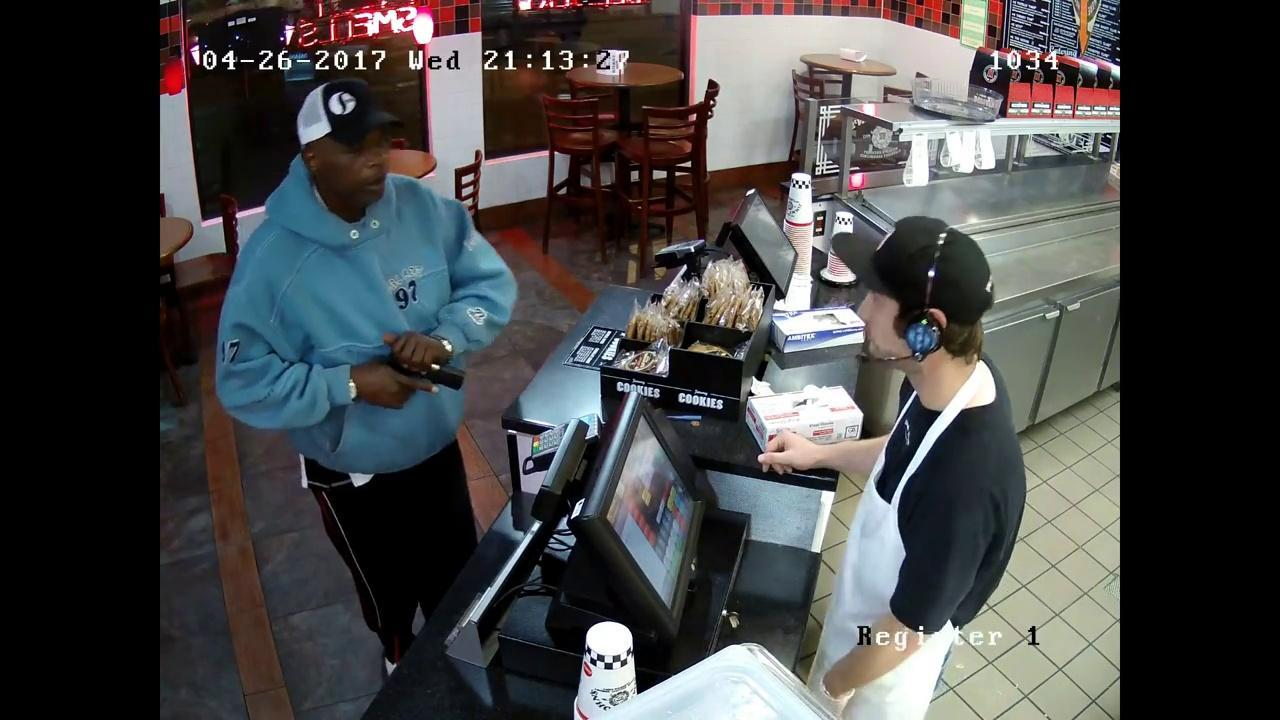Guns: (359, 345, 480, 402)
